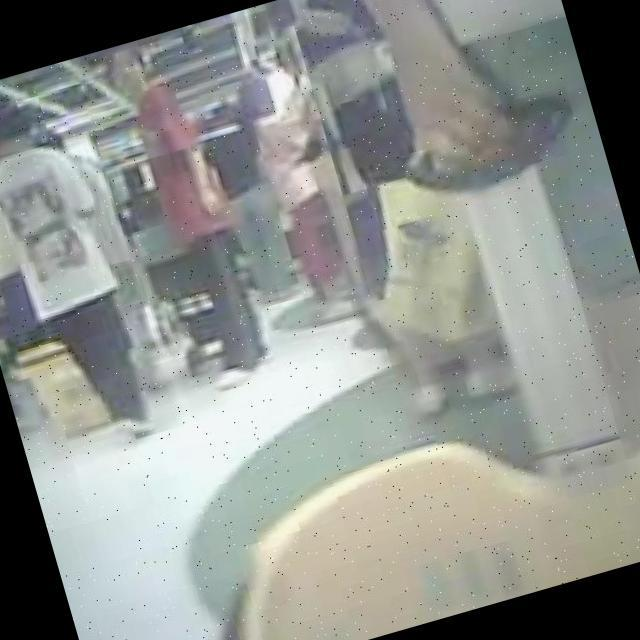person: (362, 0, 640, 476), (285, 0, 523, 428), (0, 80, 182, 468), (90, 33, 276, 404), (212, 54, 368, 343), (32, 119, 170, 404), (0, 129, 43, 341)
